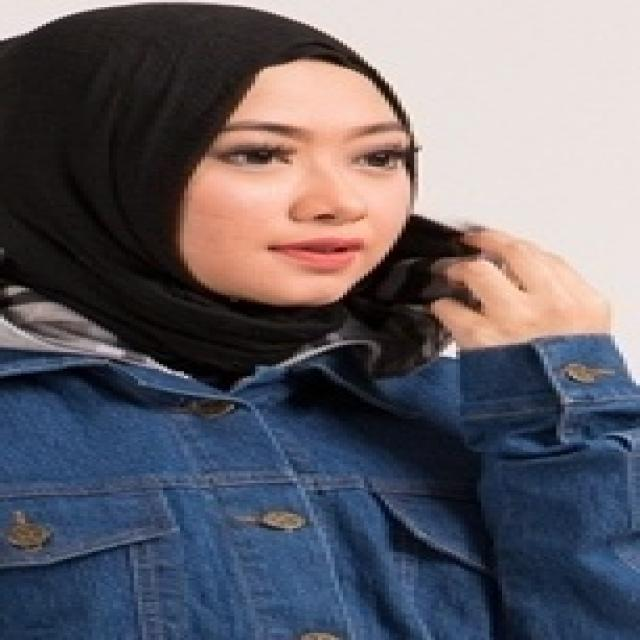head: (46, 11, 437, 318)
